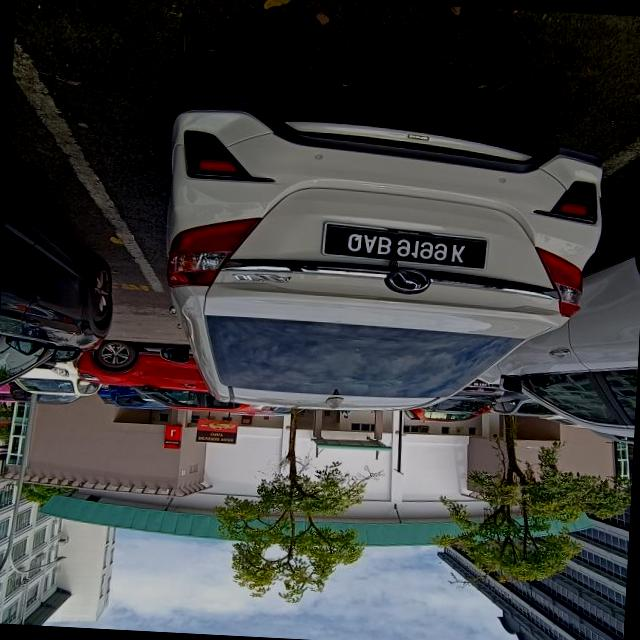PeroduaBezza: (156, 98, 608, 426)
